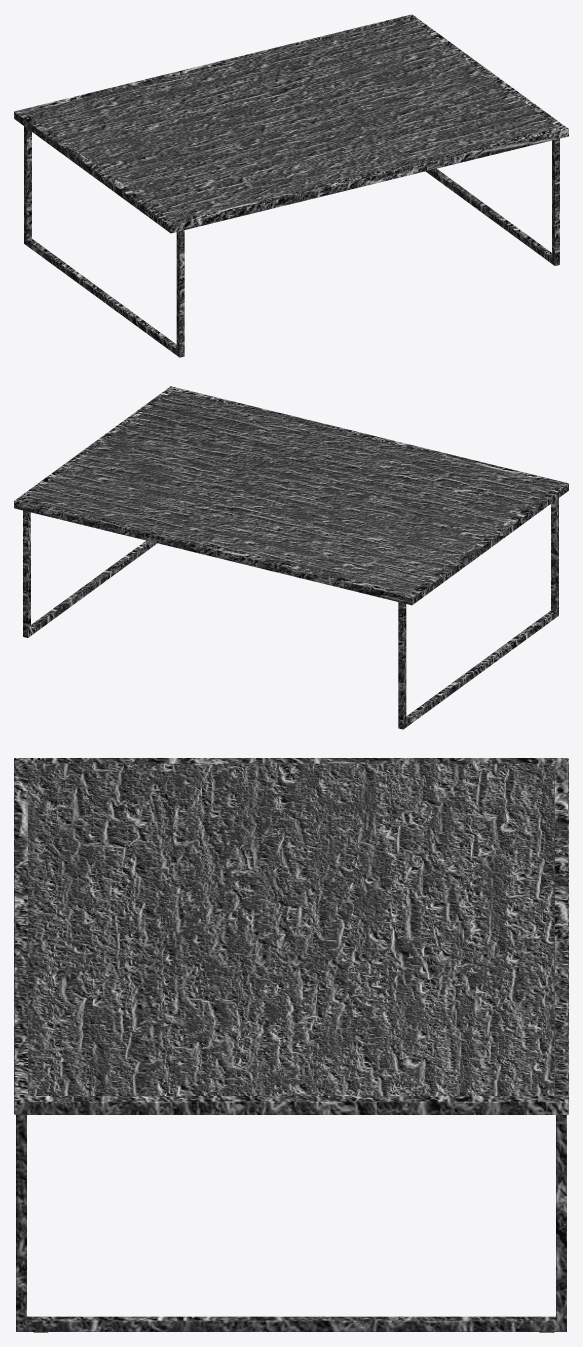
The model's file is CoffeeTable.FBX.
The picture shows the model from 3 angles, top to bottom: view 1: azimuth 30°, elevation 25°; view 2: azimuth 150°, elevation 25°; view 3: azimuth 270°, elevation 25°; orthographic projection. The views are drawn at different scales.
Parts seen in each view (by area): view 1: Concrete_table_top, Metal_frame; view 2: Concrete_table_top, Metal_frame; view 3: Concrete_table_top, Metal_frame.
Part boxes in pixels (box(x1,y1,x2,y2)): Concrete_table_top: box(25, 19, 557, 221); Metal_frame: box(14, 14, 568, 357); Concrete_table_top: box(25, 390, 557, 593); Metal_frame: box(14, 386, 568, 729); Concrete_table_top: box(28, 763, 554, 1095); Metal_frame: box(14, 758, 568, 1331).
Bounding box in the file's own units: 1.1 × 0.3569 × 0.75.
1 material, 1 textured.
